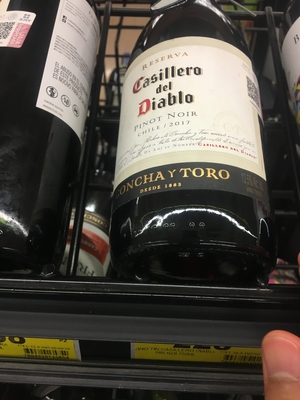casillero del diablo pinot noir: (113, 9, 257, 282)
